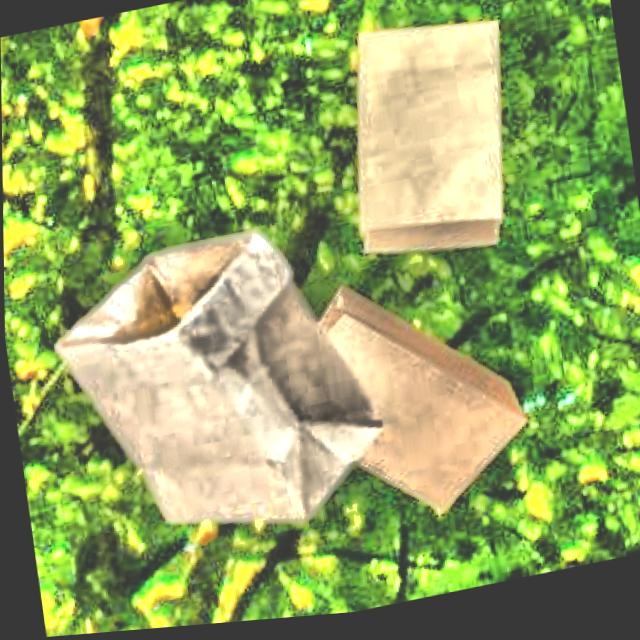Paper-bag: (24, 191, 396, 589), (232, 254, 549, 563), (324, 0, 533, 291)
